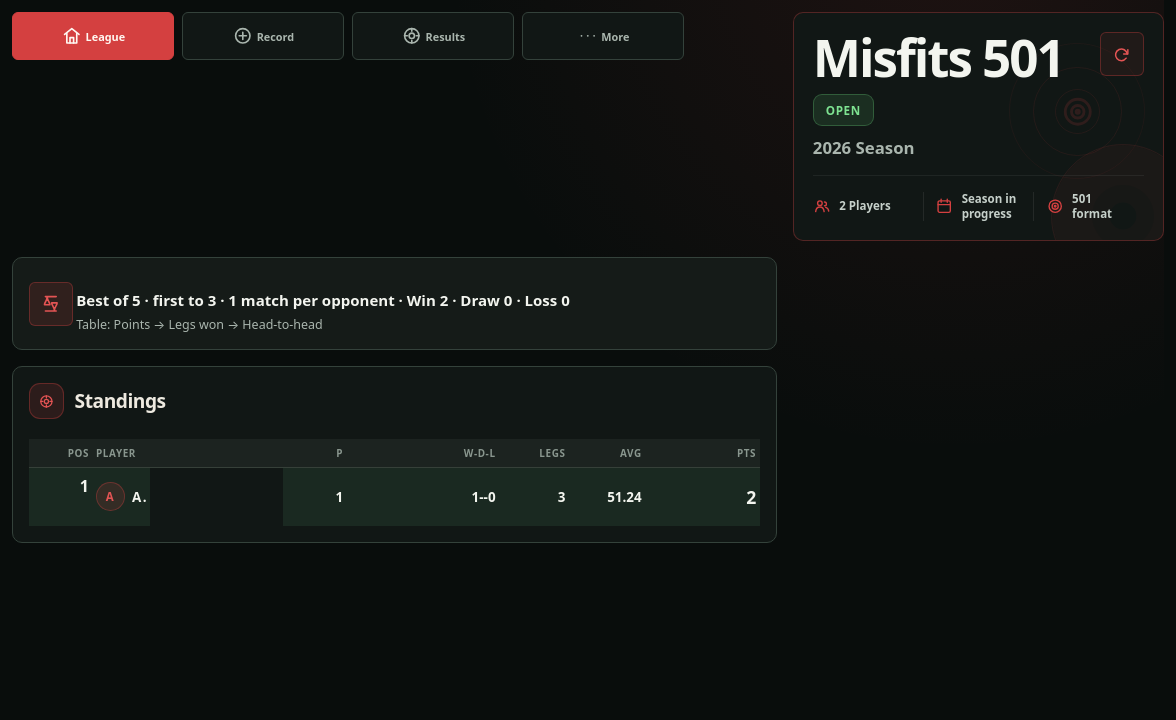
Scenario: mobile league workspaces › renders exactly the signed-in member navigation and puts profile access through More
The image size is (1176, 720).
Check: the column heading "Alpha" is shown, box [92,468,150,526]
Click the button "More".
click(603, 36)  # box [522,12,684,60]
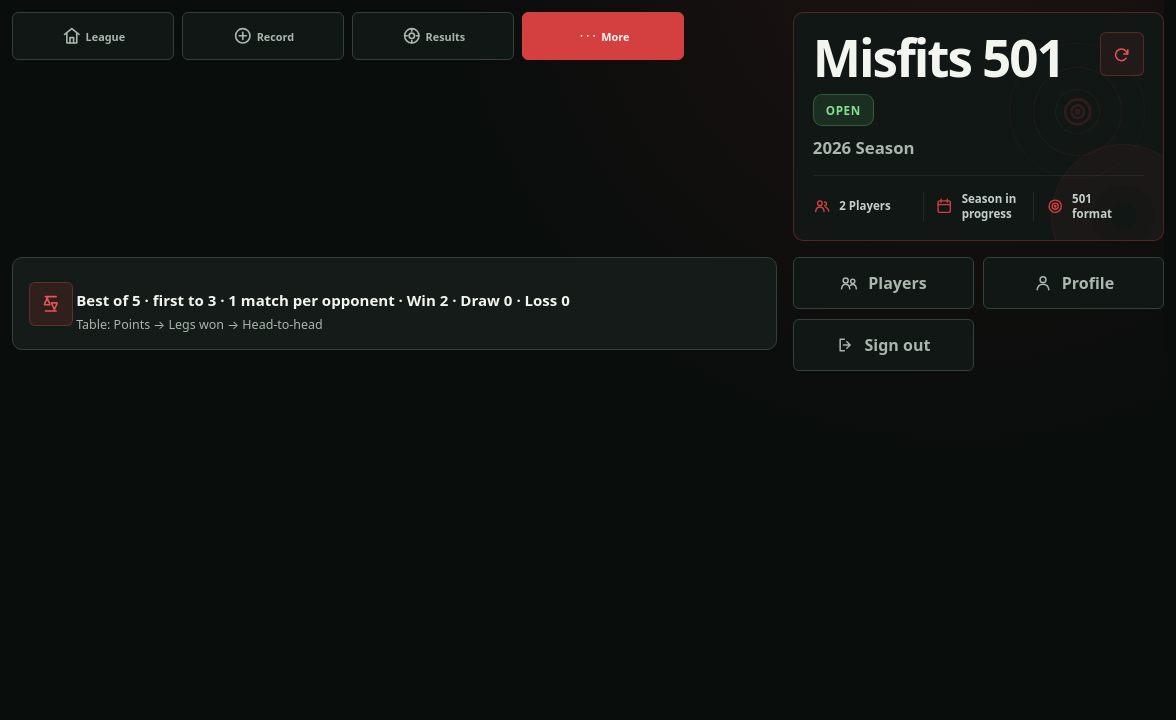
Check: the button "Players" is shown, box [793,257,974,309]
Check: the button "Profile" is shown, box [983,257,1164,309]
Check: the button "Sign out" is shown, box [793,319,974,371]
